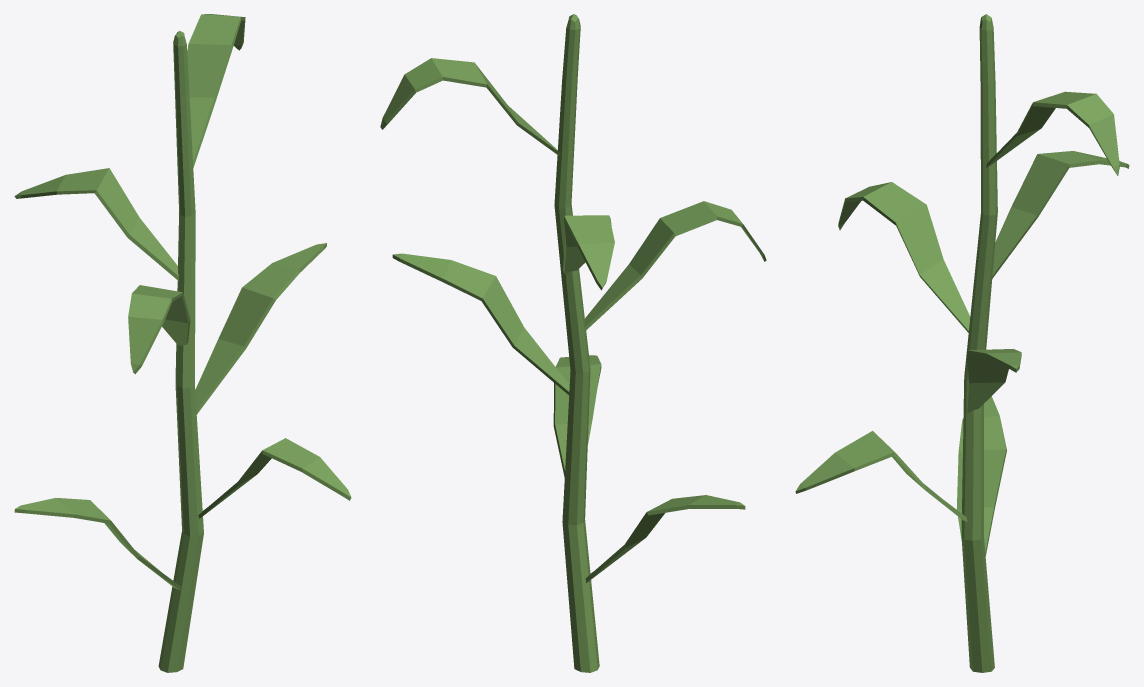
Rendered from Corn_3.gltf.
The picture shows the model from 3 angles, left to right: view 1: azimuth 30°, elevation 25°; view 2: azimuth 150°, elevation 25°; view 3: azimuth 270°, elevation 25°; orthographic projection. The views are drawn at different scales.
Visible parts, largest first — view 1: Corn_3; view 2: Corn_3; view 3: Corn_3.
Part boxes in pixels (x1,y1,x2,y2): Corn_3: (14,14,351,672); Corn_3: (380,14,766,672); Corn_3: (795,14,1129,672).
Size of the model in its own units: 0.6747 by 1.25 by 0.5726.
